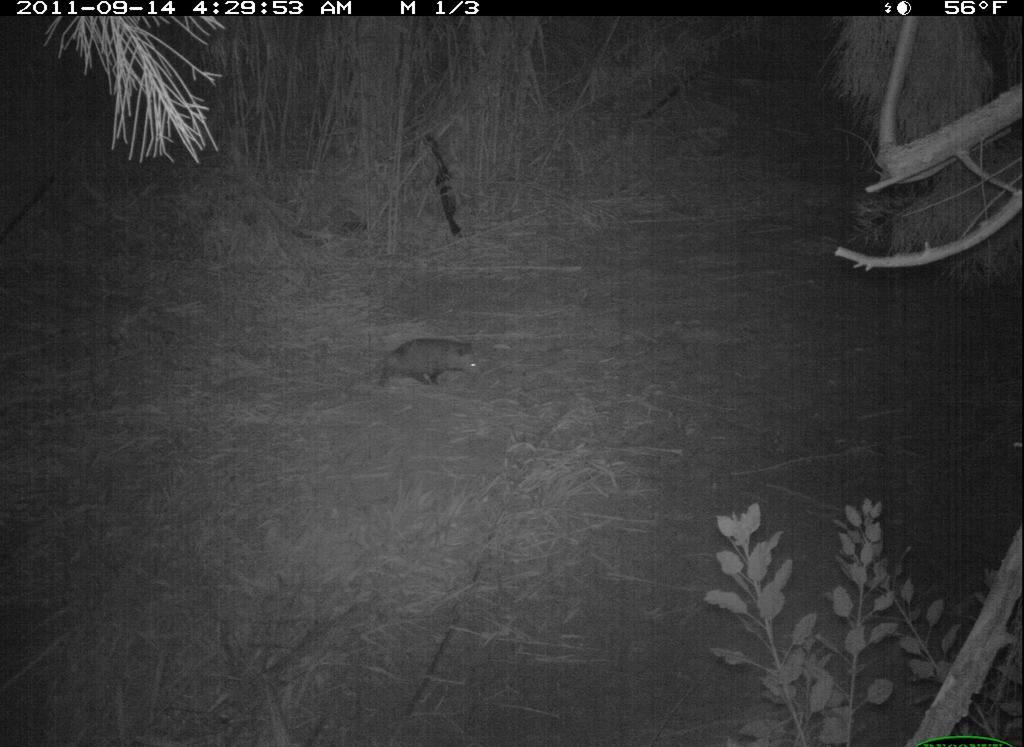opossum: (372, 329, 498, 402)
